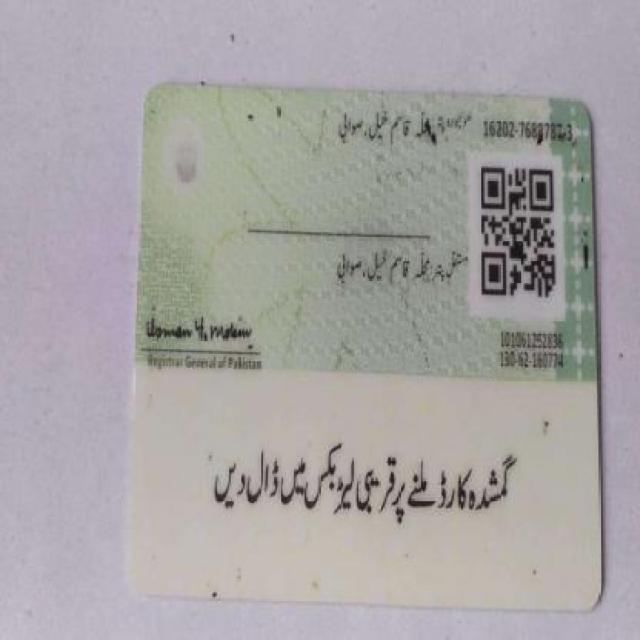Back: (124, 71, 614, 614)
